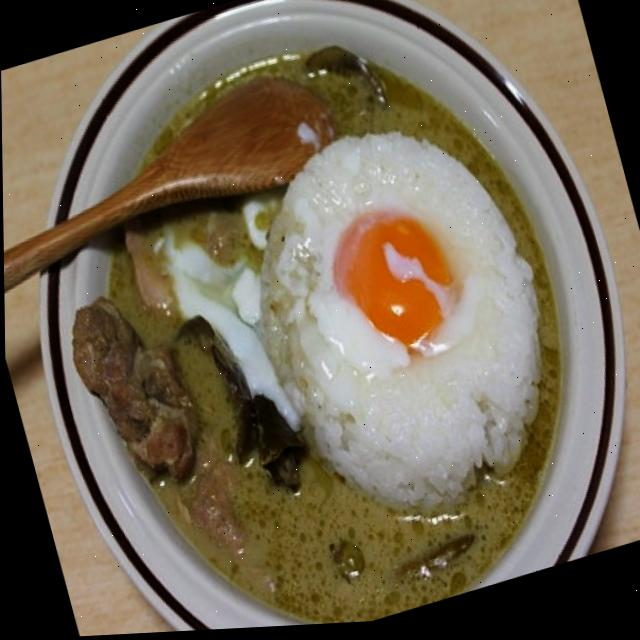鸡蛋料理: (58, 0, 575, 589)
